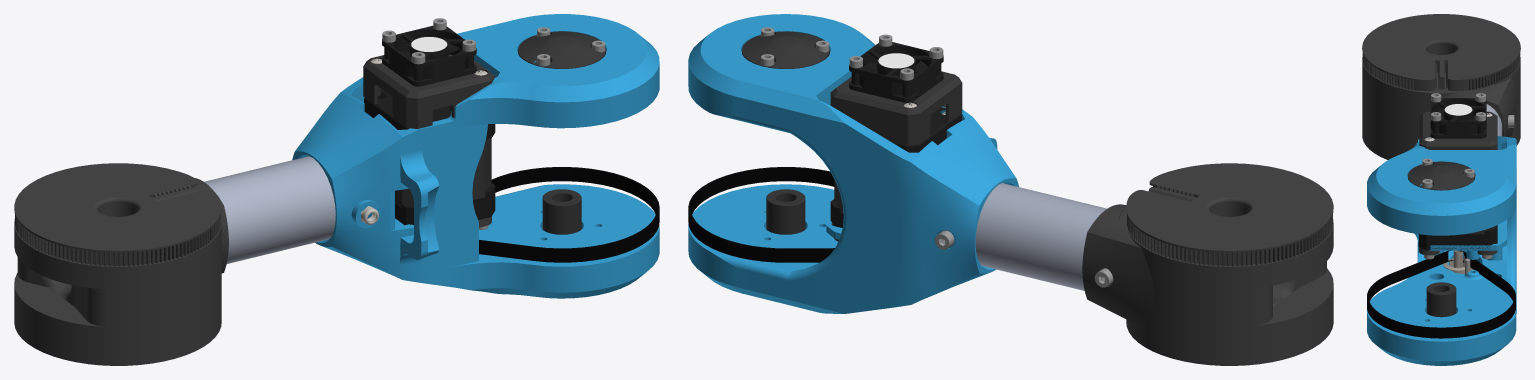
Rendered from arm_link.dae.
3 renders of one model, left to right at view 1: azimuth 30°, elevation 25°; view 2: azimuth 150°, elevation 25°; view 3: azimuth 270°, elevation 25°, orthographic. The views are drawn at different scales.
Visible parts, largest first — view 1: Body_1, Body_16, Body_2, Body_17, Body_20, _3DGeom_970, Body_8, Body_3, Body_10, Body_9, Body_11; view 2: Body_1, Body_16, Body_2, Body_20, Body_17, _3DGeom_970, Body_8, Body_3, Body_9; view 3: Body_1, Body_16, Body_17, _3DGeom_970, Body_20, Body_8, Body_11, Body_3, Body_15, _3DGeom_969, Body_5, Body_2 (+1 smaller).
Boxes of the visible parts, x1,y1,x2,y2 form: Body_1: (292,14,659,298); Body_16: (14,163,228,365); Body_2: (204,156,335,263); Body_17: (479,167,659,262); Body_20: (363,54,494,128); _3DGeom_970: (382,25,476,86); Body_8: (518,31,605,68); Body_3: (542,189,581,234); Body_10: (395,138,491,208); Body_9: (364,89,495,139); Body_11: (395,183,495,225); Body_1: (688,14,1018,313); Body_16: (1082,163,1333,365); Body_2: (975,183,1106,290); Body_20: (830,71,962,145); Body_17: (688,167,834,262); _3DGeom_970: (849,42,943,102); Body_8: (742,31,829,68); Body_3: (766,189,805,234); Body_9: (890,107,961,152); Body_1: (1367,136,1516,365); Body_16: (1362,14,1520,159); Body_17: (1367,250,1515,338); _3DGeom_970: (1430,98,1486,138); Body_20: (1419,111,1497,149); Body_8: (1408,161,1474,190); Body_11: (1418,225,1497,250); Body_3: (1426,282,1456,317); Body_15: (1443,250,1473,274); _3DGeom_969: (1444,104,1472,115); Body_5: (1419,247,1497,255); Body_2: (1486,104,1502,136).
Size of the model in its own units: 0.2925 by 0.085 by 0.1153.
